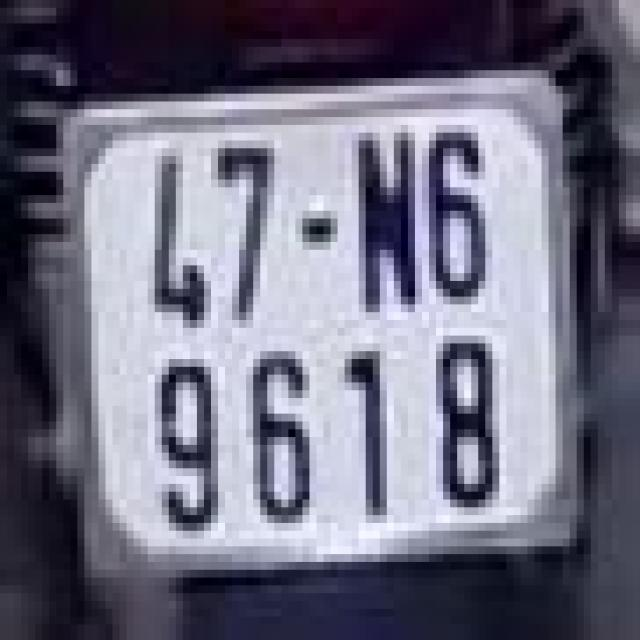1: (337, 347, 401, 527)
4: (144, 140, 215, 336)
6: (243, 347, 320, 527), (429, 121, 492, 300)
7: (221, 140, 278, 328)
8: (429, 336, 506, 515)
9: (155, 355, 225, 543)
N: (352, 129, 422, 316)
